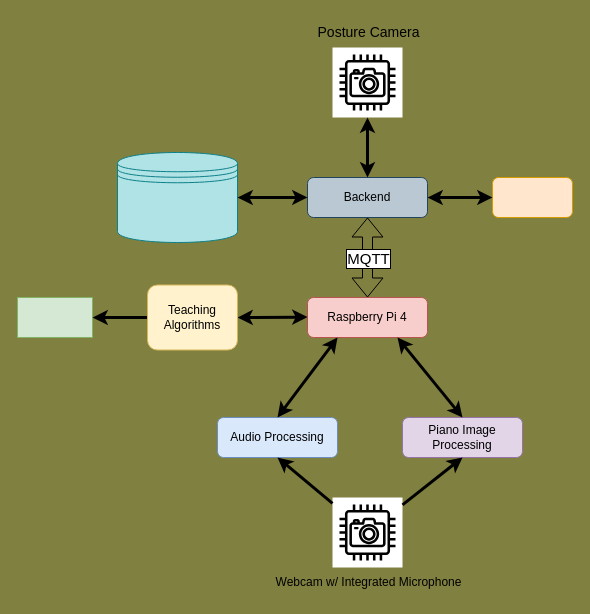
The diagram is 590 pixels wide and 614 high, and some of its shapes have lost their labels. The shapes that lost their labels are listed below. From the top down, each one's box as (x1, y1, x2, y2) in pixels, then its label:
(116, 152, 238, 242): Database
(492, 176, 572, 218): Frontend
(16, 296, 92, 338): LED Strip
